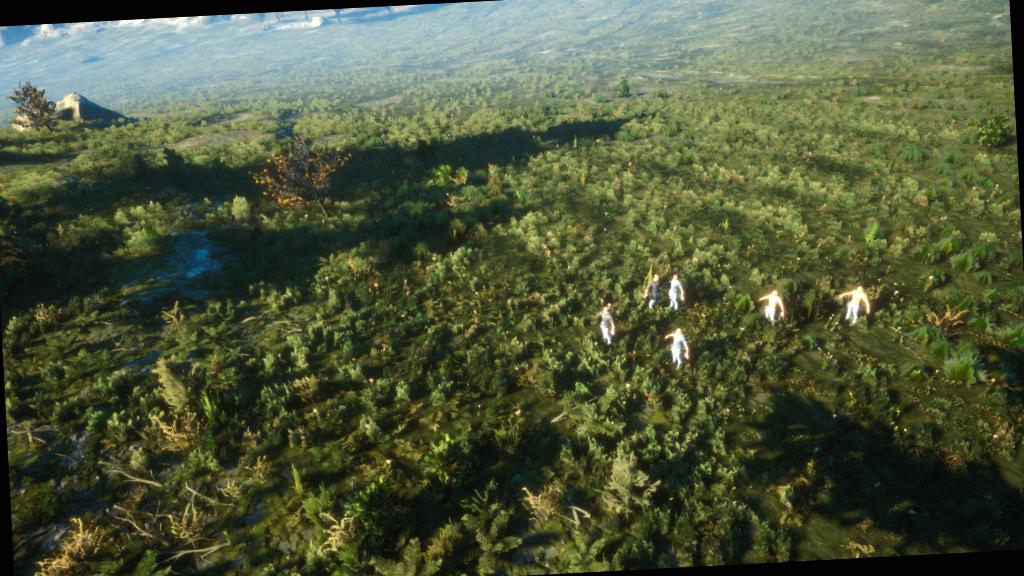human: (826, 266, 885, 338), (634, 256, 690, 326), (583, 286, 624, 358), (653, 319, 700, 376), (750, 277, 790, 332)
